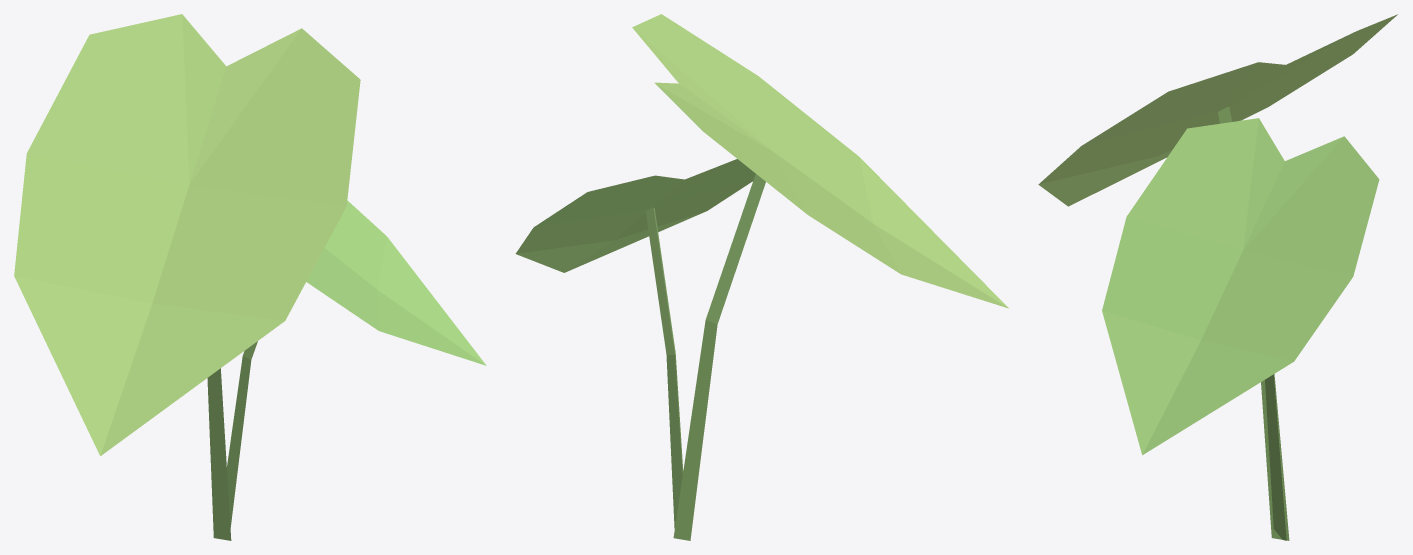
File: Plant_d_OneS_04.fbx
3 views of the same model, side by side, from view 1: azimuth 30°, elevation 25°; view 2: azimuth 150°, elevation 25°; view 3: azimuth 270°, elevation 25° (orthographic). The views are drawn at different scales.
Visible parts, largest first — view 1: Plant_d_OneS_04; view 2: Plant_d_OneS_04; view 3: Plant_d_OneS_04.
Part boxes in pixels (x1,y1,x2,y2): Plant_d_OneS_04: (14,14,486,540); Plant_d_OneS_04: (515,14,1008,540); Plant_d_OneS_04: (1038,14,1397,540).
Size of the model in its own units: 0.6038 by 0.6844 by 0.4405.
